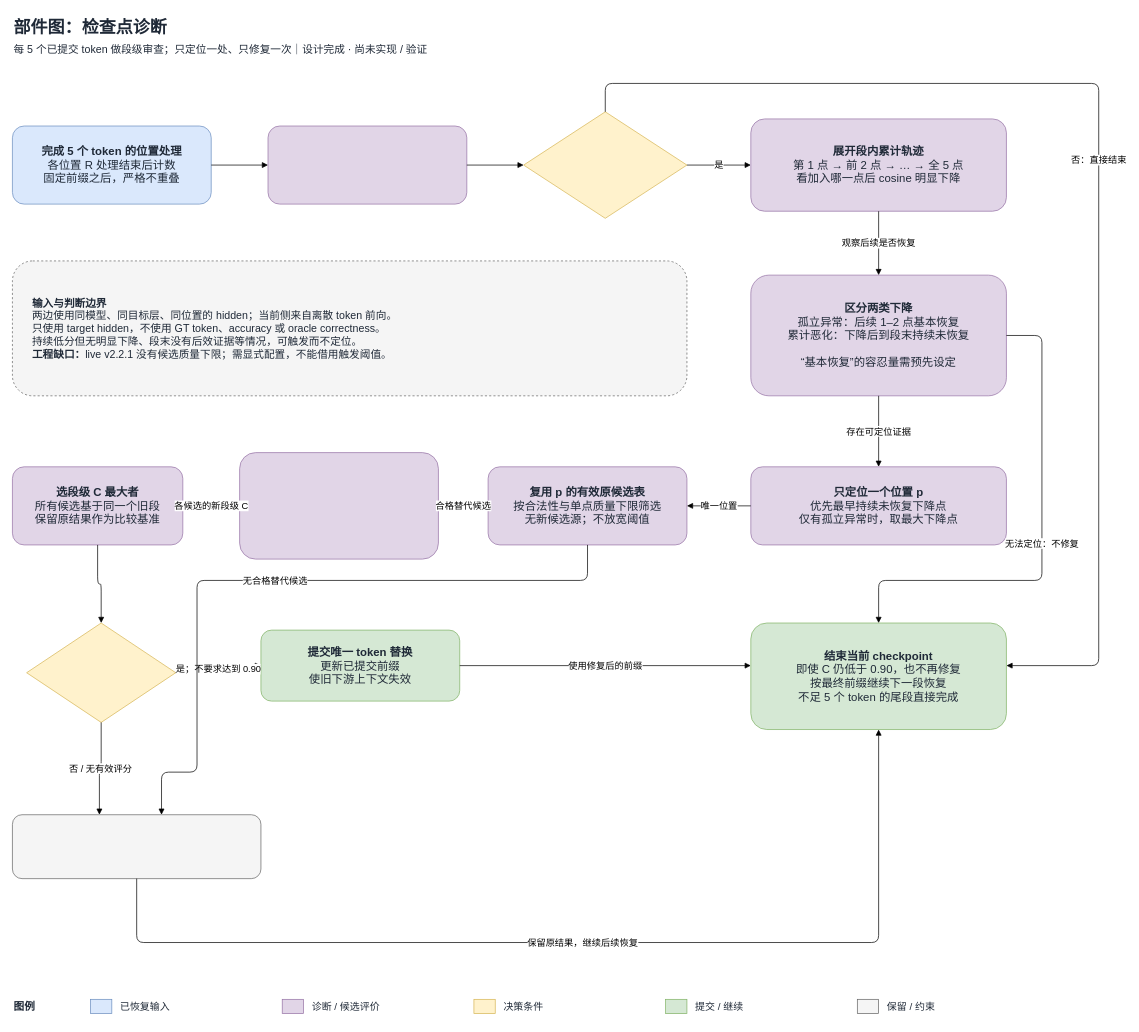
This 1139x1032 diagram has some shape labels left out. The centre of each missing label's shape, as x and y in pixels:
"C < 0.90？" belongs at [605,164].
"保留原 token 与上下文 没有合格候选 / 没有改善 / 试算失败" belongs at [136,846].
"最佳有效 C 严格优于原 C？" belongs at [101,672].
"每个合格候选重新前向 只替换 p，其他 token ID 固定 复用 p 前上下文，重算 p 至段末 重新计算整个 5-token 段的 C" belongs at [338,505].
"观察当前离散段 当前与目标各自累加 5 个 hidden 计算两组和向量的 cosine：C" belongs at [367,164].
